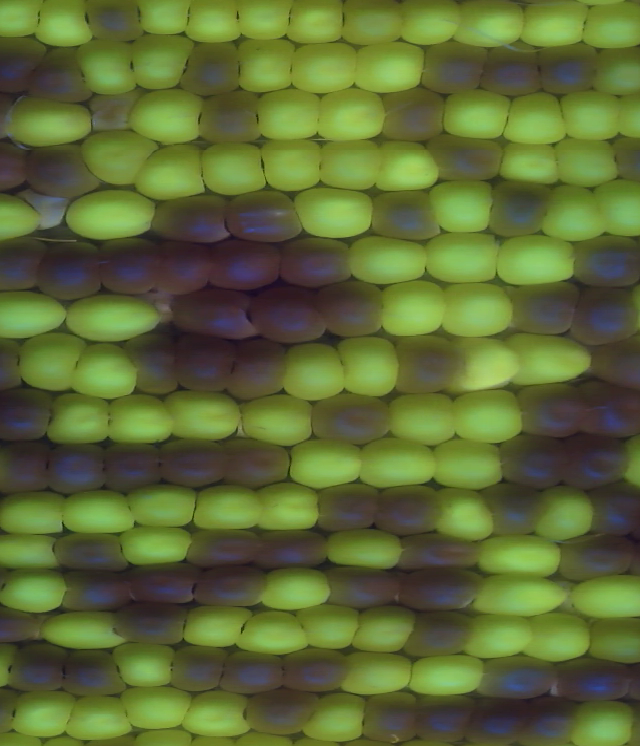fluorescent: (57, 287, 169, 348), (460, 565, 576, 621), (55, 185, 163, 245), (503, 328, 602, 393), (440, 383, 533, 451), (527, 178, 614, 248), (432, 275, 520, 344), (439, 333, 527, 402), (78, 125, 164, 195), (288, 183, 383, 246), (468, 528, 573, 585), (347, 431, 445, 492), (367, 273, 454, 340), (6, 325, 88, 396), (380, 386, 468, 452), (338, 231, 434, 291), (130, 135, 213, 204), (424, 434, 514, 497), (310, 80, 398, 144), (155, 384, 245, 446), (176, 593, 263, 657), (0, 93, 101, 148), (491, 230, 582, 291), (272, 335, 350, 406), (493, 86, 575, 153), (526, 478, 602, 550), (330, 330, 404, 403), (417, 227, 508, 286), (192, 133, 273, 199), (346, 38, 432, 100), (100, 388, 182, 453), (423, 483, 504, 548), (123, 85, 208, 146), (282, 434, 374, 490), (66, 339, 145, 404), (120, 477, 208, 535), (236, 389, 318, 451), (437, 82, 516, 146), (55, 484, 143, 541), (36, 604, 131, 656), (283, 37, 365, 97), (125, 27, 197, 95), (313, 129, 388, 194), (178, 686, 263, 743), (514, 610, 596, 669), (249, 82, 327, 144), (548, 130, 627, 191), (113, 679, 196, 737), (254, 135, 331, 197), (423, 174, 500, 236), (71, 35, 145, 98), (368, 133, 443, 193), (38, 392, 119, 447), (551, 85, 625, 145), (402, 651, 494, 699), (564, 568, 640, 626), (246, 478, 324, 534), (321, 526, 410, 575), (231, 33, 298, 98), (292, 599, 367, 657), (188, 481, 270, 534), (253, 562, 338, 613), (103, 638, 181, 693), (334, 642, 413, 696), (61, 689, 137, 745), (453, 1, 533, 54), (233, 607, 313, 660), (0, 483, 74, 540), (461, 610, 540, 663), (300, 688, 372, 746), (344, 602, 422, 655), (563, 693, 640, 746), (0, 289, 74, 344), (4, 686, 78, 741), (519, 1, 593, 54), (0, 564, 73, 617), (116, 523, 199, 569), (0, 527, 72, 578), (396, 1, 465, 53), (27, 1, 97, 52), (497, 139, 564, 192), (579, 612, 640, 670), (587, 176, 640, 242), (576, 1, 640, 55), (280, 1, 350, 50), (337, 1, 407, 50), (227, 1, 298, 46), (179, 1, 245, 49), (586, 43, 640, 99), (0, 187, 47, 247), (134, 1, 195, 40), (608, 83, 640, 145), (0, 1, 46, 43)
nonfluorescent: (162, 283, 266, 346), (363, 183, 454, 249), (384, 330, 466, 402), (243, 283, 333, 348), (561, 280, 640, 354), (195, 235, 292, 295), (302, 386, 397, 447), (147, 430, 236, 495), (547, 526, 640, 588), (506, 379, 592, 446), (386, 562, 490, 617), (218, 187, 309, 249), (113, 329, 188, 404), (31, 235, 108, 308), (310, 276, 393, 343), (17, 41, 99, 108), (542, 652, 640, 708), (414, 129, 508, 187), (189, 83, 268, 152), (487, 430, 574, 492), (218, 334, 295, 404), (18, 138, 103, 201), (372, 83, 453, 149), (91, 230, 168, 299), (142, 190, 232, 249), (480, 176, 559, 243), (388, 526, 491, 577), (366, 481, 455, 539), (395, 607, 484, 665), (476, 479, 556, 543), (554, 430, 634, 493), (414, 38, 495, 100), (175, 36, 251, 102), (571, 374, 640, 446), (474, 37, 551, 101), (316, 558, 404, 614), (273, 233, 359, 290), (37, 438, 116, 500), (170, 331, 241, 399), (215, 434, 297, 492), (506, 277, 579, 342), (474, 651, 567, 702), (108, 596, 194, 651), (236, 684, 325, 736), (563, 231, 640, 290), (54, 565, 141, 617), (304, 480, 386, 535), (274, 641, 356, 696), (55, 643, 131, 702), (351, 688, 427, 746), (121, 557, 204, 610), (94, 437, 168, 496), (185, 563, 274, 612), (146, 237, 217, 298), (409, 689, 486, 744), (530, 40, 603, 98), (459, 695, 542, 746), (46, 526, 134, 574), (208, 647, 292, 697), (250, 522, 332, 573), (180, 525, 267, 573), (162, 637, 232, 695), (4, 637, 70, 697), (581, 477, 640, 544), (0, 383, 62, 445), (0, 28, 51, 102), (585, 330, 640, 398), (0, 230, 53, 299), (516, 692, 587, 743), (0, 436, 58, 497), (80, 84, 147, 135), (82, 1, 149, 49), (0, 598, 47, 649), (605, 127, 640, 189), (0, 329, 30, 392)
